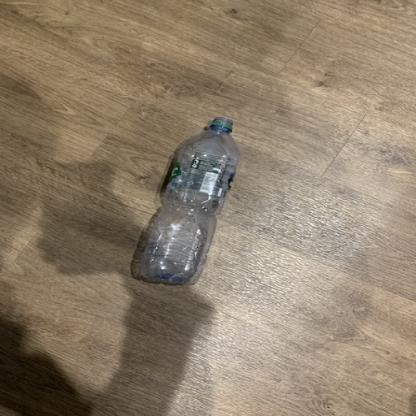trash: (128, 116, 241, 286)
